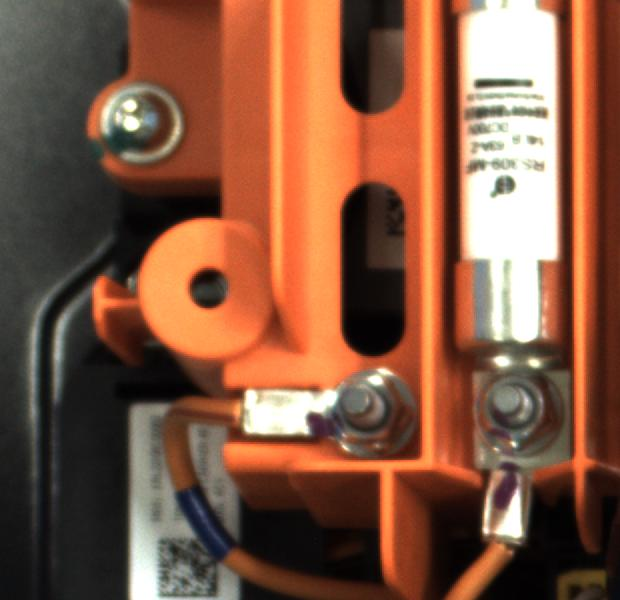screw_m: (89, 76, 192, 170)
screw_s: (321, 362, 426, 462), (466, 367, 564, 460)
